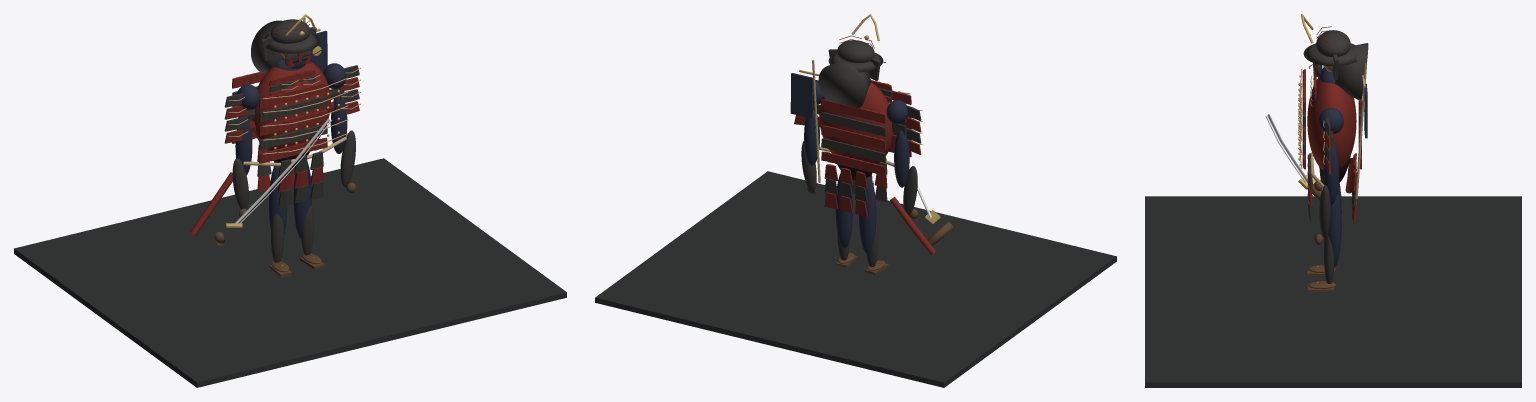
Rendered from actor-takeda-03.glb.
3 renders of one model, left to right at view 1: azimuth 30°, elevation 25°; view 2: azimuth 150°, elevation 25°; view 3: azimuth 270°, elevation 25°, orthographic. The views are drawn at different scales.
Parts seen in each view (by area): view 1: matte charcoal inspection plinth, rounded do cuirass silhouette, rear shikoro neck guard flare, segmented kabuto helmet bowl, right armored upper arm, right kote forearm guard, left kote forearm guard, wide kabuto brim, left hakama trouser leg, right hakama trouser leg, left armored upper arm, left shin greave (+2 smaller); view 2: matte charcoal inspection plinth, rear shikoro neck guard flare, rounded do cuirass silhouette, cloth sashimono banner panel, left hakama trouser leg, left armored upper arm, segmented kabuto helmet bowl, right hakama trouser leg, right armored upper arm, left kote forearm guard, lacquered saya scabbard at left hip; view 3: matte charcoal inspection plinth, rounded do cuirass silhouette, rear shikoro neck guard flare, segmented kabuto helmet bowl, right hakama trouser leg, wide kabuto brim, right armored upper arm, right kote forearm guard, right shoulder undercloth, right shin greave, bamboo sashimono back pole.
Part boxes in pixels (box(x1,y1,x2,y2)): matte charcoal inspection plinth: box(14, 158, 566, 387); rounded do cuirass silhouette: box(252, 62, 330, 151); rear shikoro neck guard flare: box(251, 20, 283, 74); segmented kabuto helmet bowl: box(270, 19, 310, 43); right armored upper arm: box(330, 93, 347, 153); right kote forearm guard: box(340, 130, 355, 187); left kote forearm guard: box(232, 158, 248, 209); wide kabuto brim: box(261, 33, 319, 53); left hakama trouser leg: box(269, 166, 287, 234); right hakama trouser leg: box(293, 163, 311, 239); left armored upper arm: box(235, 116, 252, 175); left shin greave: box(271, 213, 284, 262); matte charcoal inspection plinth: box(595, 171, 1116, 387); rear shikoro neck guard flare: box(818, 61, 870, 108); rounded do cuirass silhouette: box(819, 82, 893, 164); cloth sashimono banner panel: box(790, 73, 813, 118); left hakama trouser leg: box(859, 176, 876, 253); left armored upper arm: box(894, 130, 909, 187); segmented kabuto helmet bowl: box(837, 40, 874, 62); right hakama trouser leg: box(835, 173, 852, 248); right armored upper arm: box(804, 110, 819, 165); left kote forearm guard: box(903, 166, 917, 215); lacquered saya scabbard at left hip: box(889, 197, 935, 254); matte charcoal inspection plinth: box(1145, 196, 1521, 387); rounded do cuirass silhouette: box(1307, 76, 1356, 170); rear shikoro neck guard flare: box(1335, 43, 1368, 99); segmented kabuto helmet bowl: box(1316, 30, 1350, 56); right hakama trouser leg: box(1328, 189, 1341, 267); wide kabuto brim: box(1303, 43, 1356, 66); right armored upper arm: box(1323, 142, 1339, 204); right kote forearm guard: box(1319, 185, 1330, 238); right shoulder undercloth: box(1319, 108, 1343, 134); right shin greave: box(1324, 235, 1334, 283); bamboo sashimono back pole: box(1355, 63, 1366, 198).
Bounding box in the file's own units: 4.2 × 2.96 × 3.6.
